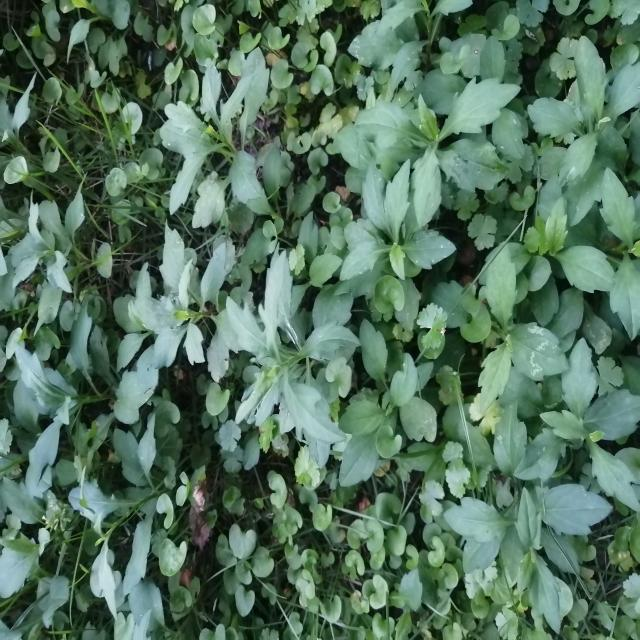Indian aster: (208, 260, 353, 459), (156, 58, 286, 232), (344, 47, 506, 173), (346, 163, 460, 297)
